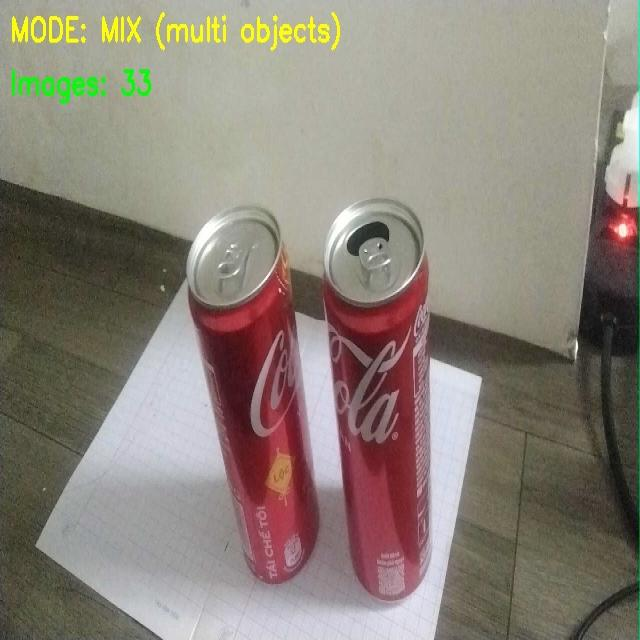Coca: (160, 192, 321, 604)
Coca_open: (320, 168, 474, 619)
